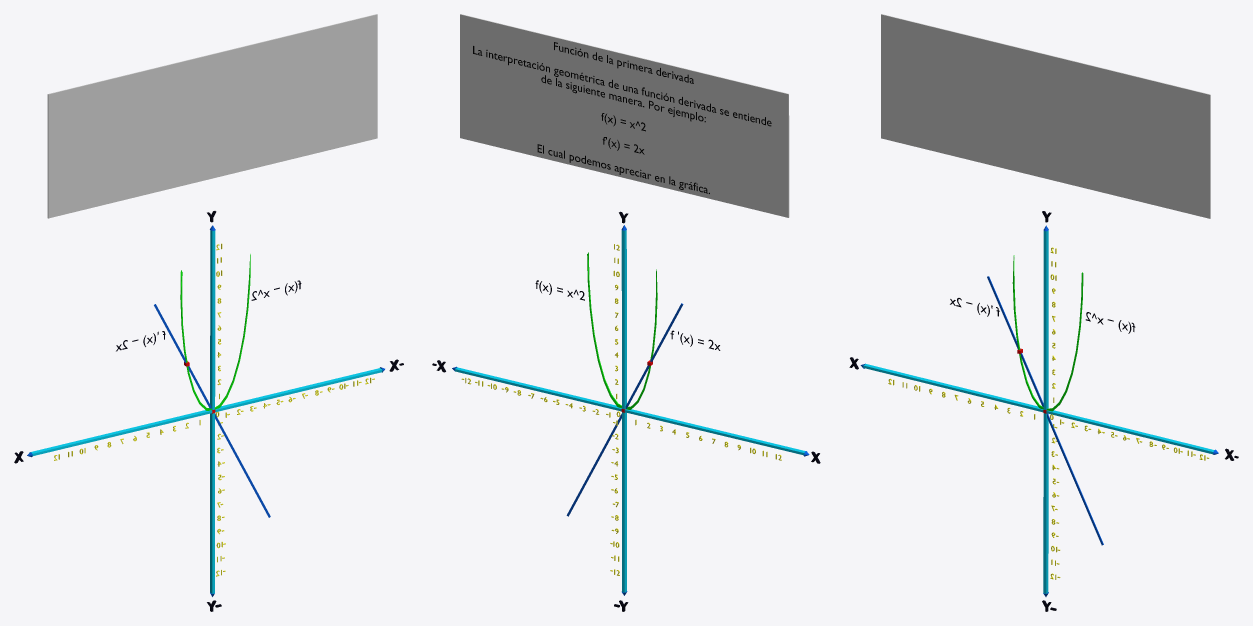
Rendered from f-primera-derivada-.fbx.
3 views of the same model, side by side, from view 1: azimuth 30°, elevation 25°; view 2: azimuth 150°, elevation 25°; view 3: azimuth 330°, elevation 25° (orthographic).
Visible parts, largest first — view 1: Cubo.001, Cubo.005, Cubo.006, Surface.002, Cube.002; view 2: Cubo.001, Text.001, Cubo.005, Cubo.006, Surface.002, Cube.002; view 3: Cubo.001, Cubo.005, Cubo.006, Cube.002, Surface.002.
Boxes of the visible parts, <box> form: Cubo.001: <box>47,14,377,218</box>; Cubo.005: <box>210,230,215,593</box>; Cubo.006: <box>29,368,382,455</box>; Surface.002: <box>180,254,250,410</box>; Cube.002: <box>154,304,270,517</box>; Cubo.001: <box>460,14,789,217</box>; Text.001: <box>473,42,771,193</box>; Cubo.005: <box>621,230,626,592</box>; Cubo.006: <box>455,367,807,455</box>; Surface.002: <box>587,252,657,409</box>; Cube.002: <box>566,303,683,516</box>; Cubo.001: <box>881,14,1210,218</box>; Cubo.005: <box>1043,230,1048,593</box>; Cubo.006: <box>862,364,1214,454</box>; Cube.002: <box>987,276,1103,545</box>; Surface.002: <box>1012,255,1083,411</box>.
Size of the model in its own units: 599 by 823 by 8.65.
